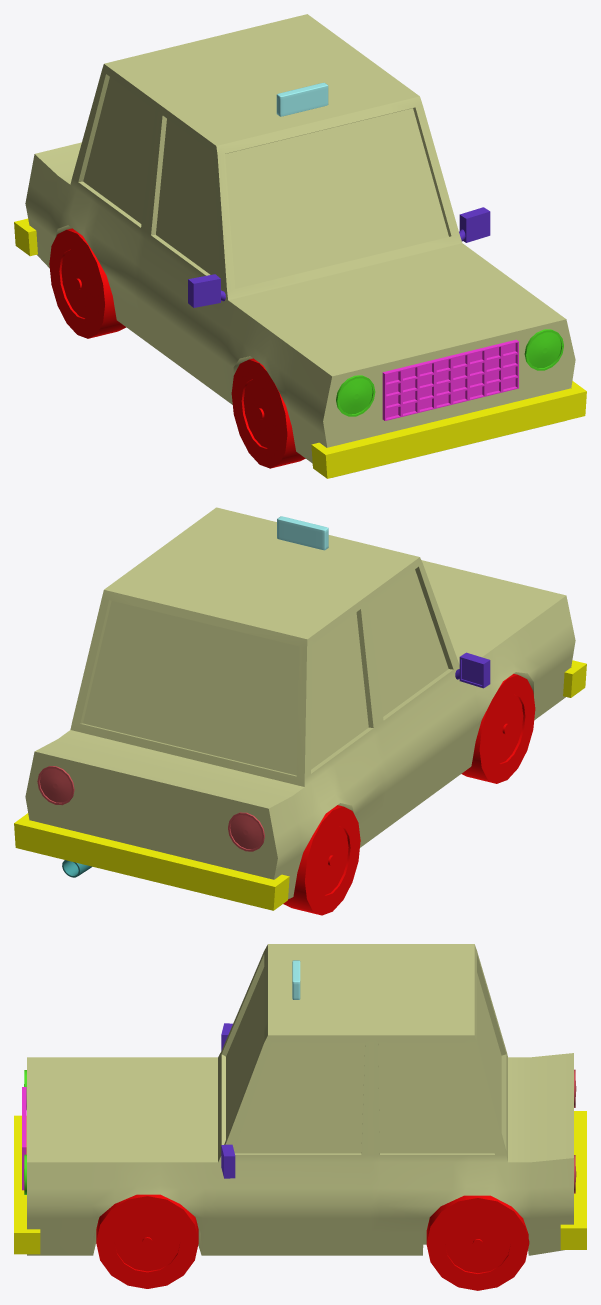
File: CarroTaxiColorir.fbx
3 renders of one model, top to bottom at view 1: azimuth 30°, elevation 25°; view 2: azimuth 150°, elevation 25°; view 3: azimuth 270°, elevation 25°, orthographic. The views are drawn at different scales.
Visible parts, largest first — view 1: Chassi, ParaChohesFrente, Grelha, RodaTrasDir, RodaFrenteDir, FarolFrenteEsq, PlacaTaxi, FarolFrenteDir, EspelhoDir, EspelhoEsq, ParaChohesTras; view 2: Chassi, ParaChohesTras, RodaTrasDir, RodaFrenteDir, PlacaTaxi, FarolTrasDir, FarolTrasEsq, EspelhoDir, ParaChohesFrente; view 3: Chassi, RodaTrasEsq, RodaFrenteEsq, ParaChohesTras, ParaChohesFrente, EspelhoEsq.
Part boxes in pixels (x1,y1,x2,y2): Chassi: [25, 14, 575, 477]; ParaChohesFrente: [311, 381, 586, 478]; Grelha: [382, 339, 518, 420]; RodaTrasDir: [49, 228, 126, 338]; RodaFrenteDir: [231, 358, 305, 468]; FarolFrenteEsq: [524, 329, 563, 370]; PlacaTaxi: [276, 82, 328, 116]; FarolFrenteDir: [336, 375, 375, 416]; EspelhoDir: [188, 274, 225, 307]; EspelhoEsq: [459, 207, 490, 242]; ParaChohesTras: [14, 218, 37, 256]; Chassi: [25, 507, 575, 899]; ParaChohesTras: [14, 813, 289, 910]; RodaTrasDir: [283, 805, 360, 915]; RodaFrenteDir: [461, 673, 535, 783]; PlacaTaxi: [277, 516, 328, 550]; FarolTrasDir: [228, 812, 264, 851]; FarolTrasEsq: [37, 766, 74, 805]; EspelhoDir: [455, 652, 490, 688]; ParaChohesFrente: [563, 660, 586, 697]; Chassi: [27, 944, 573, 1255]; RodaTrasEsq: [426, 1195, 529, 1290]; RodaFrenteEsq: [96, 1194, 198, 1288]; ParaChohesTras: [560, 1111, 586, 1249]; ParaChohesFrente: [14, 1115, 40, 1254]; EspelhoEsq: [221, 1144, 235, 1178].
Bounding box in the file's own units: 6.14 × 5.65 × 11.17.
